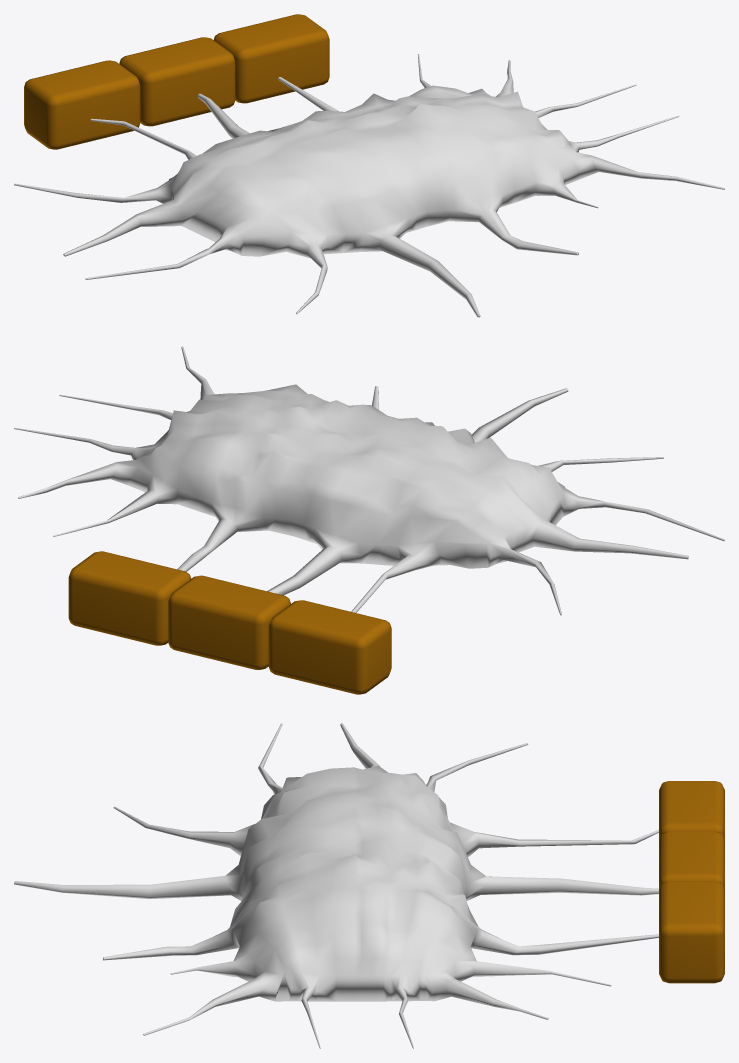
The model's file is Osteocyte C VIRESS.fbx.
The picture shows the model from 3 angles, top to bottom: view 1: azimuth 30°, elevation 25°; view 2: azimuth 150°, elevation 25°; view 3: azimuth 270°, elevation 25°; orthographic projection. The views are drawn at different scales.
Parts seen in each view (by area): view 1: Osteocyte_body, Osteoblast, pCube3, pCube4; view 2: Osteocyte_body, Osteoblast, pCube3, pCube4; view 3: Osteocyte_body, pCube4, Osteoblast, pCube3.
Boxes of the visible parts, <box> form: Osteocyte_body: <box>14,54,724,317</box>; Osteoblast: <box>24,60,140,149</box>; pCube3: <box>119,37,235,126</box>; pCube4: <box>213,14,329,103</box>; Osteocyte_body: <box>14,346,724,615</box>; Osteoblast: <box>268,600,391,694</box>; pCube3: <box>168,575,290,669</box>; pCube4: <box>68,551,191,645</box>; Osteocyte_body: <box>14,723,658,1048</box>; pCube4: <box>659,881,724,983</box>; Osteoblast: <box>659,781,724,840</box>; pCube3: <box>659,831,724,890</box>.
Size of the model in its own units: 178 by 26.89 by 164.
